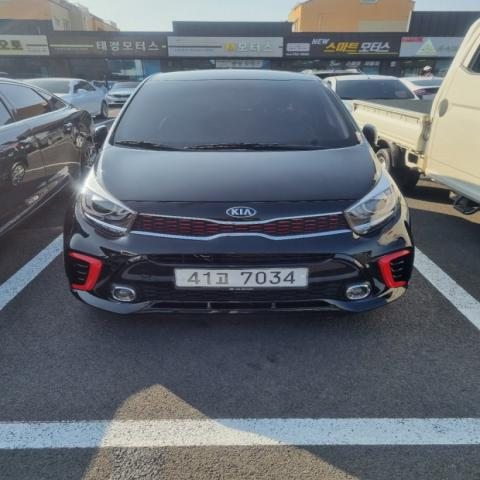LP: (162, 259, 319, 294)
